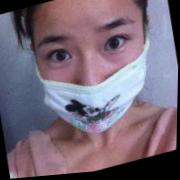WRONG: (30, 2, 158, 136)
